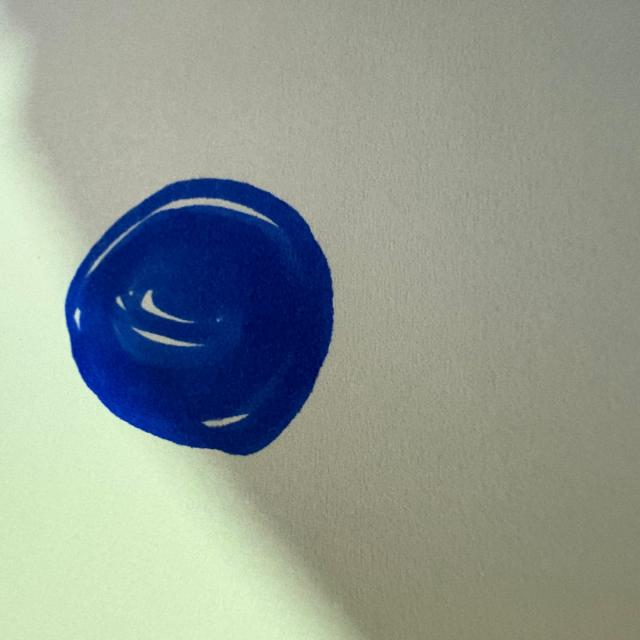Circle: (59, 168, 348, 458)
